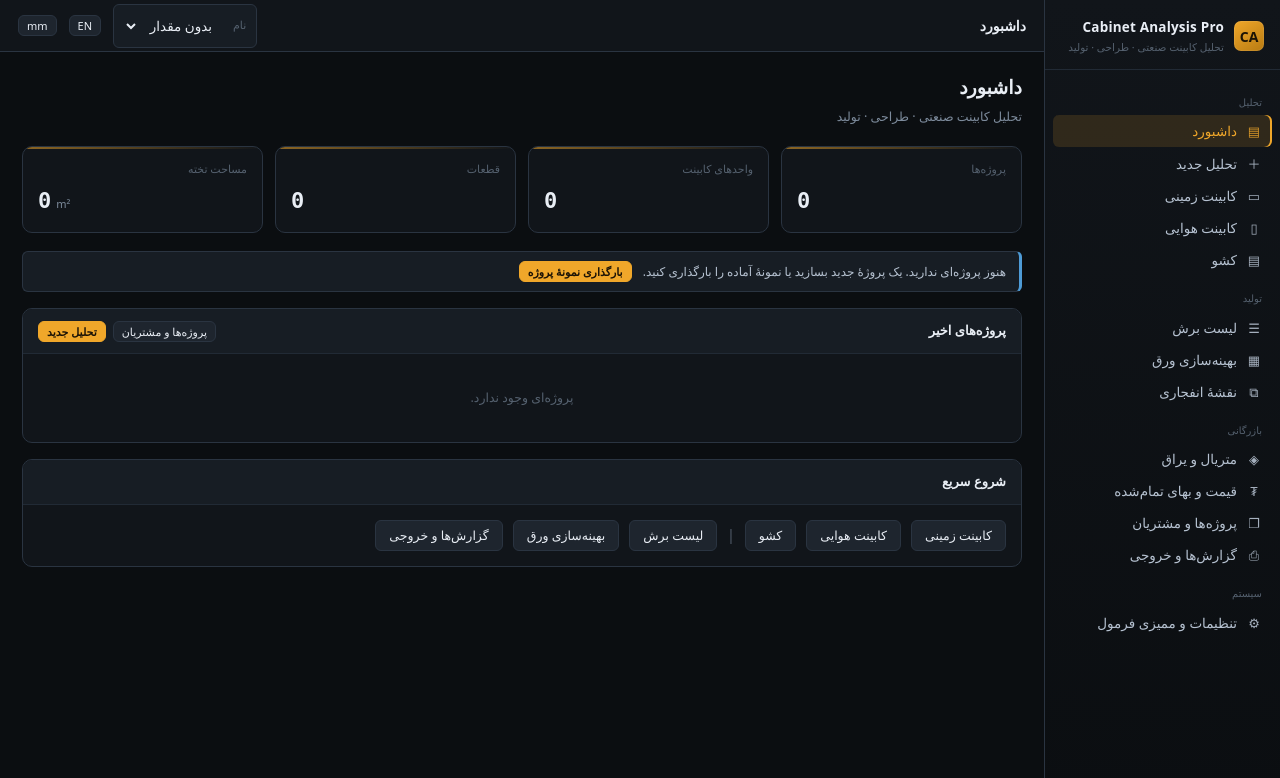
cutting list › shows aggregated parts and a totals row
Click the button "بارگذاری نمونهٔ پروژه".
click(575, 272)  # box [519,261,632,282]
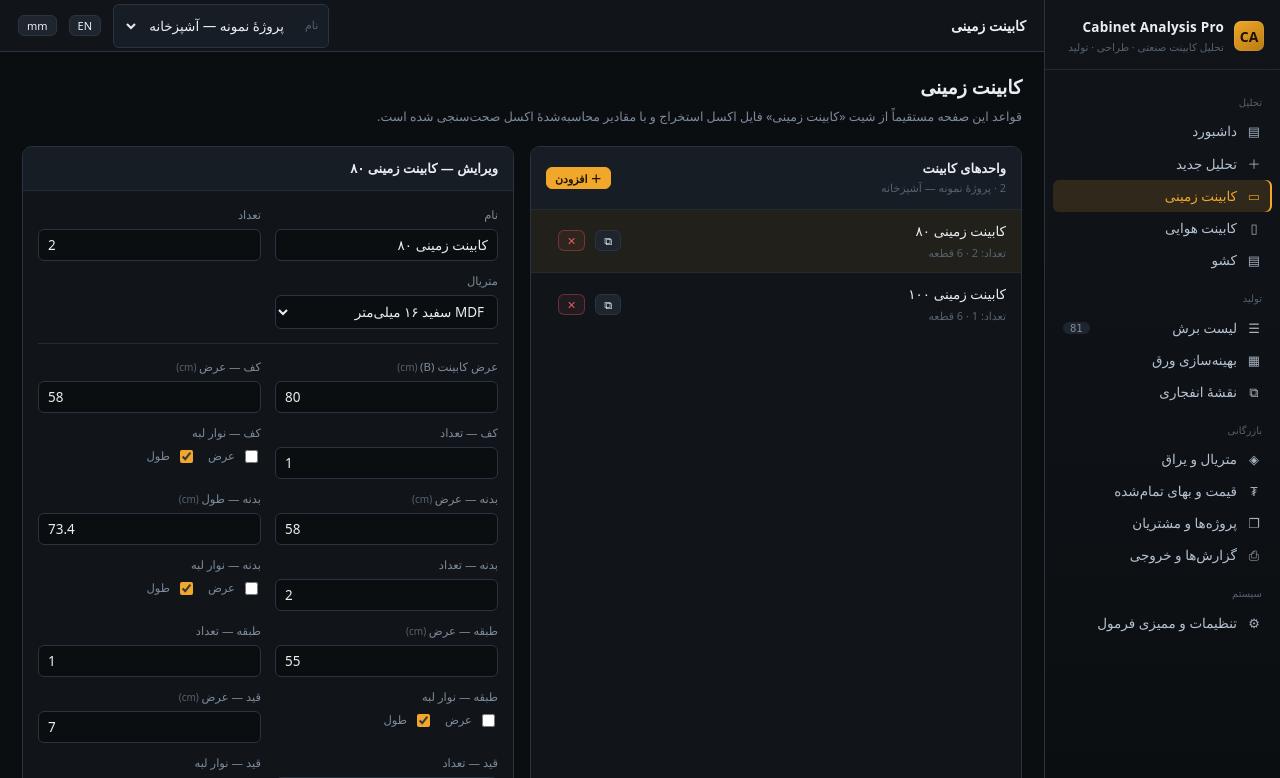
Click the button "☰ لیست برش 81".
click(1162, 328)  # box [1053,312,1272,344]
(page scrolled)
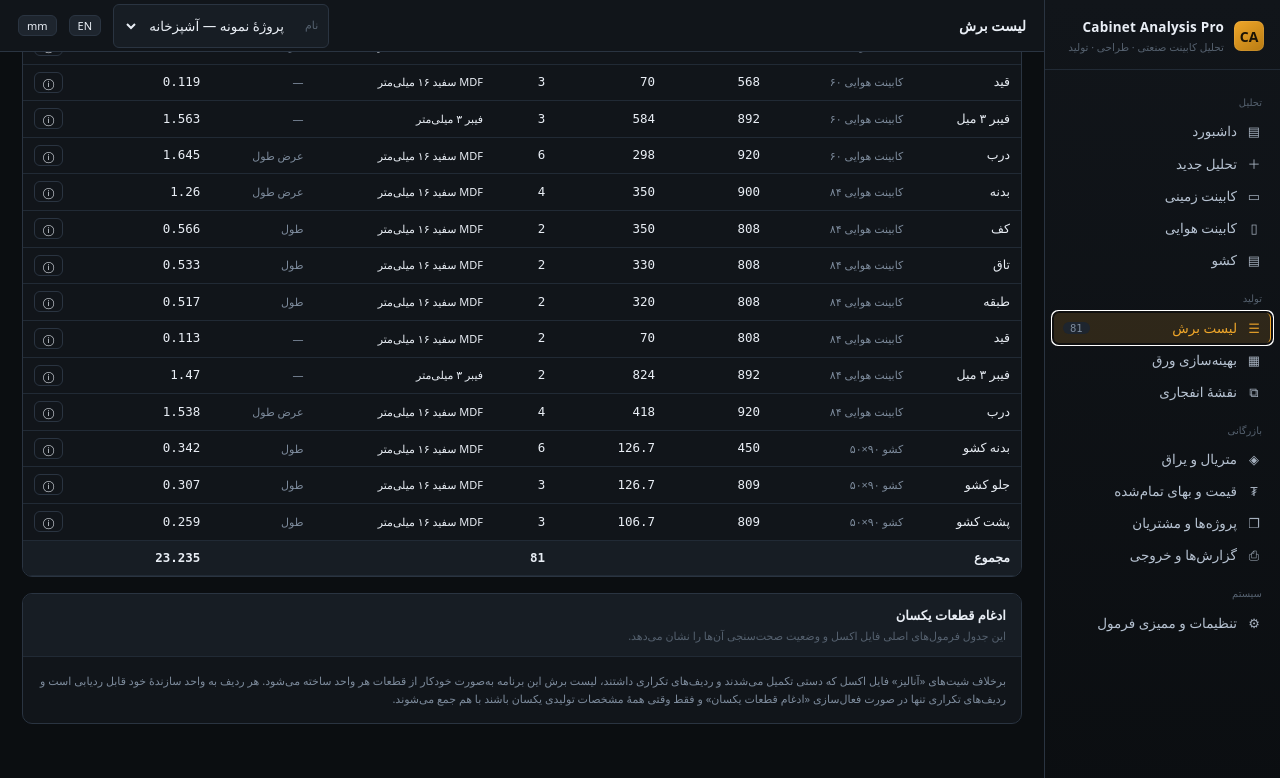
Expected: the element showing "مجموع 81 23.235" is shown, [23,540,1021,576]
